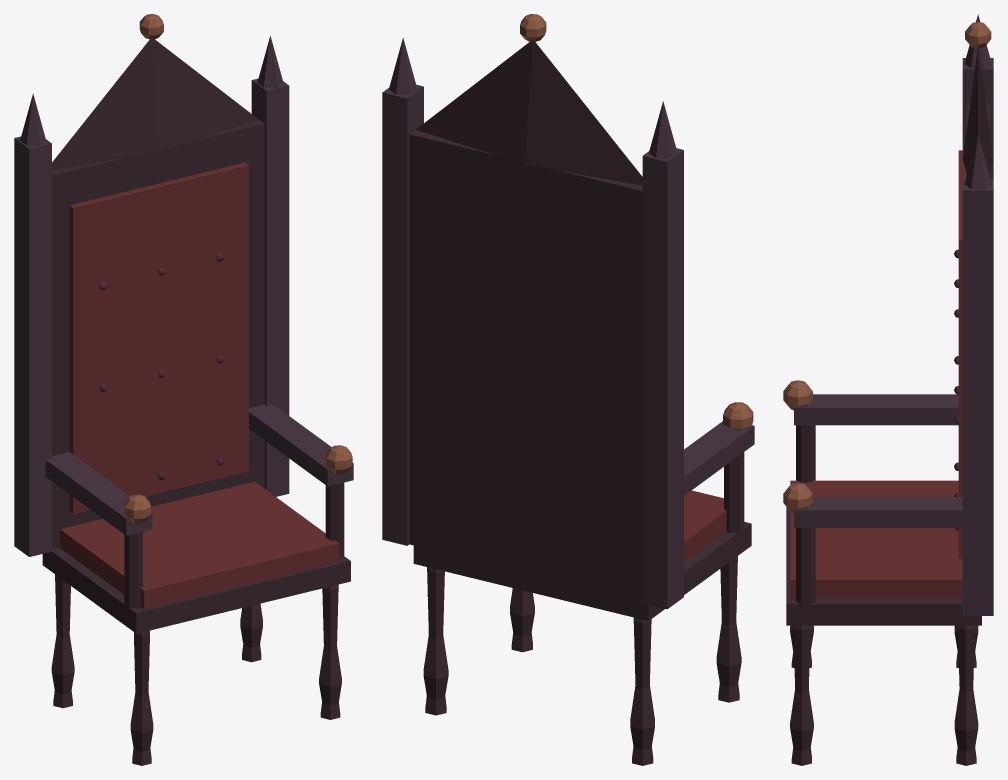
Rendered from tron_jean.glb.
3 views of the same model, side by side, from view 1: azimuth 30°, elevation 25°; view 2: azimuth 150°, elevation 25°; view 3: azimuth 270°, elevation 25° (orthographic). The views are drawn at different scales.
Parts seen in each view (by area): view 1: Tron; view 2: Tron; view 3: Tron.
Part boxes in pixels (left/top/right/bottom): Tron: left=14, top=14, right=353, bottom=765; Tron: left=382, top=14, right=754, bottom=765; Tron: left=783, top=14, right=993, bottom=765.
Bounding box in the file's own units: 0.8 × 1.94 × 0.538.
